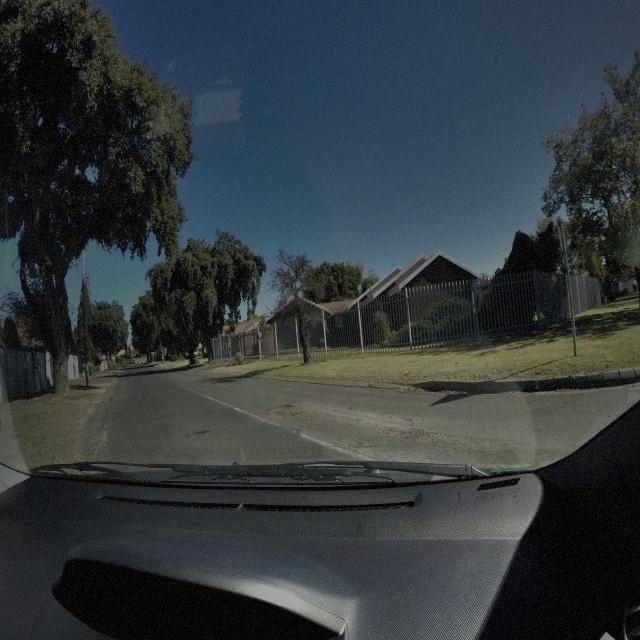pothole: (266, 404, 298, 415)
